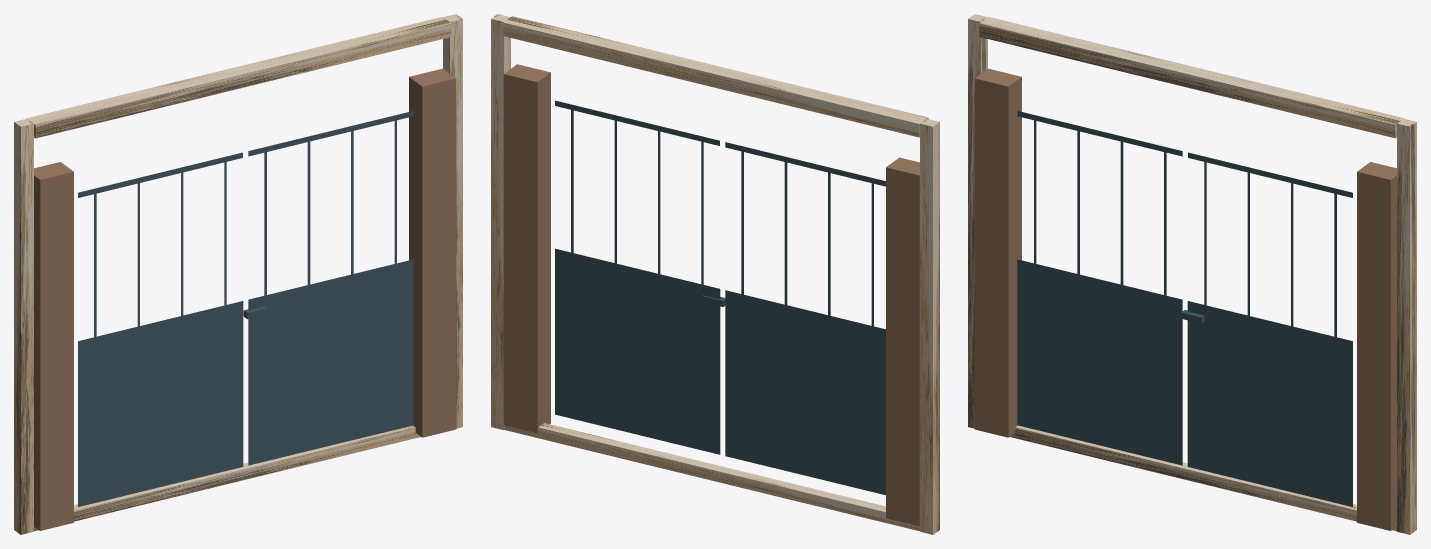
File: facade_compound_gate_ground.glb
The picture shows the model from 3 angles, left to right: view 1: azimuth 30°, elevation 25°; view 2: azimuth 150°, elevation 25°; view 3: azimuth 330°, elevation 25°; orthographic projection.
Parts seen in each view (by area): view 1: lod1_facade_compound_gate_ground__VVK_painted_steel, lod1_facade_compound_gate_ground__VVK_masonry, lod1_facade_compound_gate_ground__VVK_concrete_CC0; view 2: lod1_facade_compound_gate_ground__VVK_painted_steel, lod1_facade_compound_gate_ground__VVK_concrete_CC0, lod1_facade_compound_gate_ground__VVK_masonry; view 3: lod1_facade_compound_gate_ground__VVK_painted_steel, lod1_facade_compound_gate_ground__VVK_masonry, lod1_facade_compound_gate_ground__VVK_concrete_CC0.
Part boxes in pixels (left/top/right/bottom): lod1_facade_compound_gate_ground__VVK_painted_steel: left=78, top=111, right=413, bottom=506; lod1_facade_compound_gate_ground__VVK_masonry: left=34, top=68, right=456, bottom=530; lod1_facade_compound_gate_ground__VVK_concrete_CC0: left=14, top=14, right=462, bottom=534; lod1_facade_compound_gate_ground__VVK_painted_steel: left=555, top=100, right=885, bottom=495; lod1_facade_compound_gate_ground__VVK_concrete_CC0: left=491, top=14, right=939, bottom=534; lod1_facade_compound_gate_ground__VVK_masonry: left=503, top=64, right=919, bottom=526; lod1_facade_compound_gate_ground__VVK_painted_steel: left=1017, top=111, right=1352, bottom=506; lod1_facade_compound_gate_ground__VVK_masonry: left=974, top=68, right=1396, bottom=530; lod1_facade_compound_gate_ground__VVK_concrete_CC0: left=968, top=14, right=1416, bottom=534.
Bounding box in the file's own units: 3.4 × 3 × 0.188.
3 materials, 1 textured.
